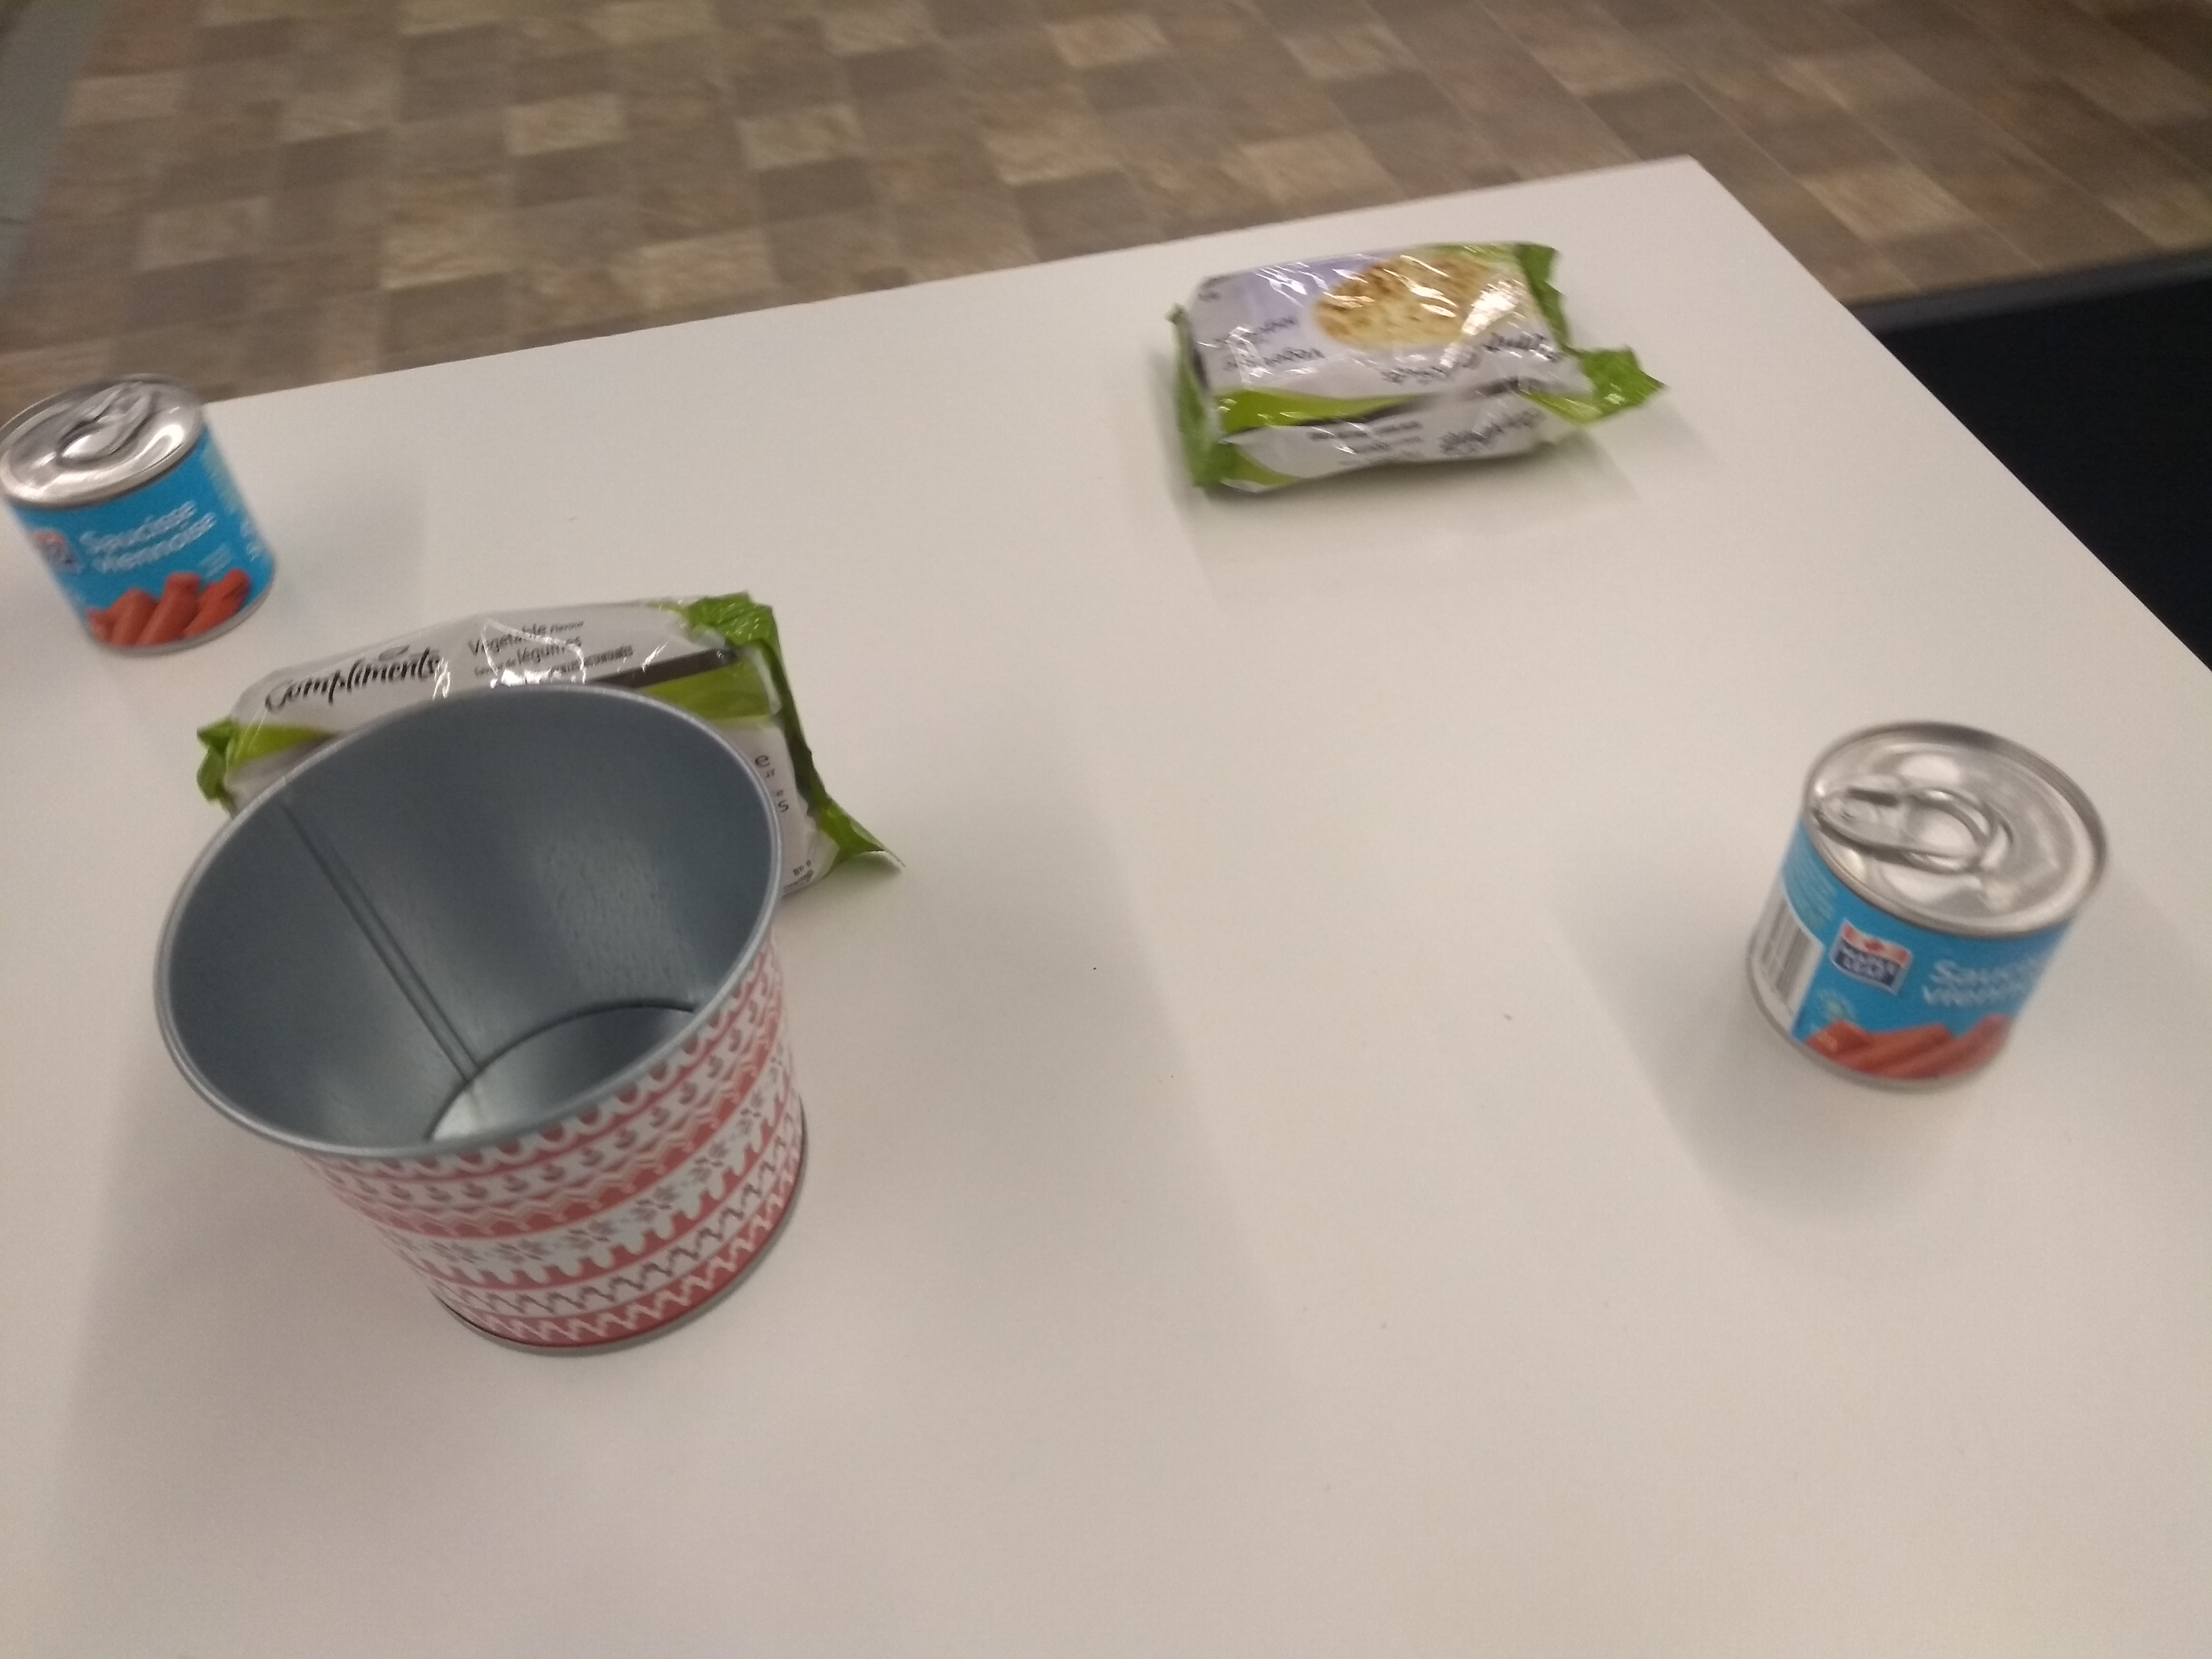noodles: (1139, 227, 1679, 519)
sausages: (1730, 708, 2120, 1107), (0, 366, 286, 671)
